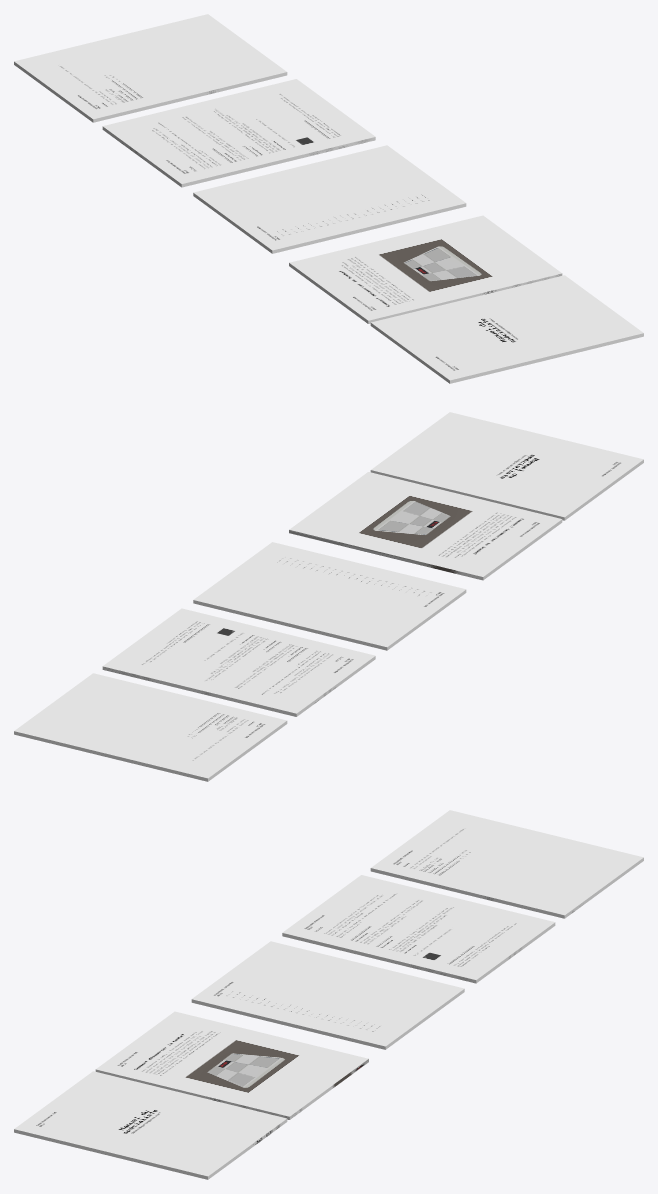
The model's file is pagesLivres.fbx.
3 renders of one model, top to bottom at view 1: azimuth 30°, elevation 25°; view 2: azimuth 150°, elevation 25°; view 3: azimuth 330°, elevation 25°, orthographic.
Visible parts, largest first — view 1: page5, page1, page3, page4, page2; view 2: page2, page5, page3, page4, page1; view 3: page5, page1, page3, page4, page2.
Part boxes in pixels (box(x1,y1,x2,y2)): page5: box(102, 79, 375, 187); page1: box(370, 275, 643, 383); page3: box(193, 145, 466, 253); page4: box(14, 14, 287, 122); page2: box(289, 215, 562, 323); page2: box(289, 472, 562, 580); page5: box(102, 608, 375, 716); page3: box(193, 542, 466, 650); page4: box(14, 673, 287, 781); page1: box(370, 412, 643, 520); page5: box(282, 875, 555, 983); page1: box(14, 1071, 287, 1179); page3: box(191, 941, 464, 1049); page4: box(370, 810, 643, 918); page2: box(95, 1011, 368, 1119).
Size of the model in its own units: 5940 by 100 by 23113.
